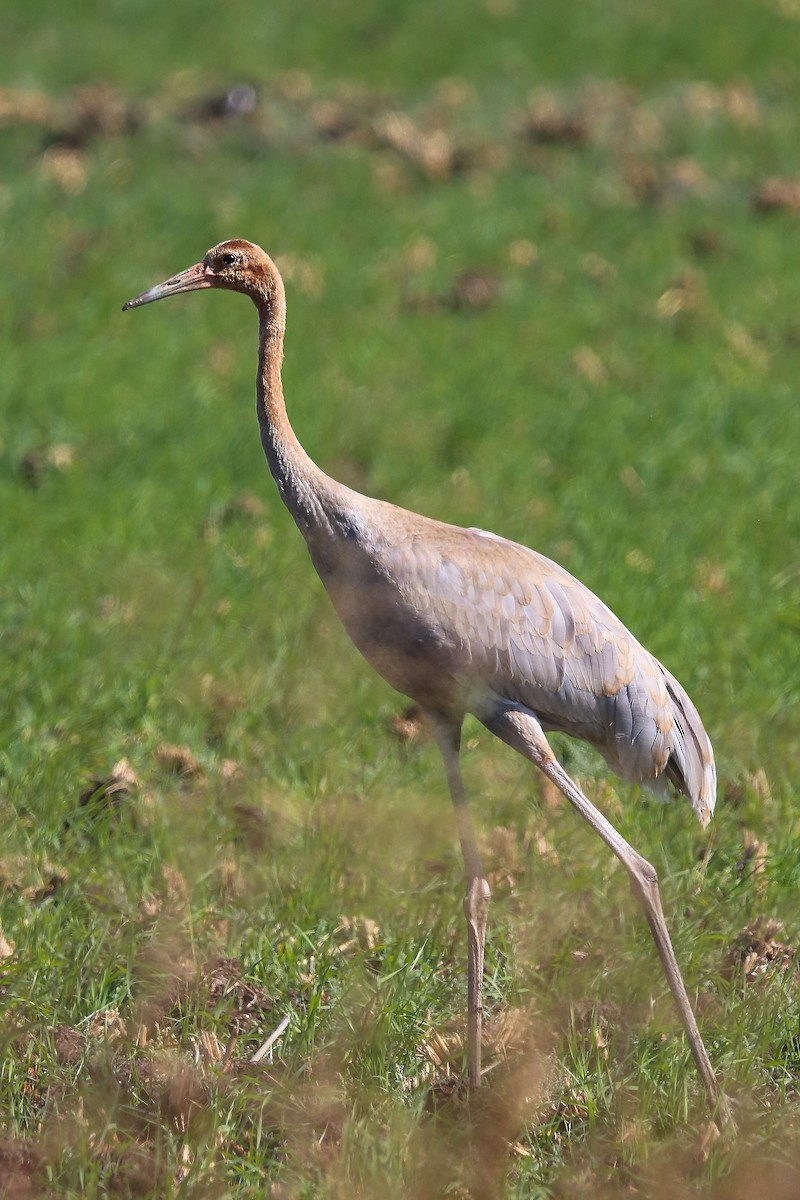crane: (125, 216, 772, 1120)
